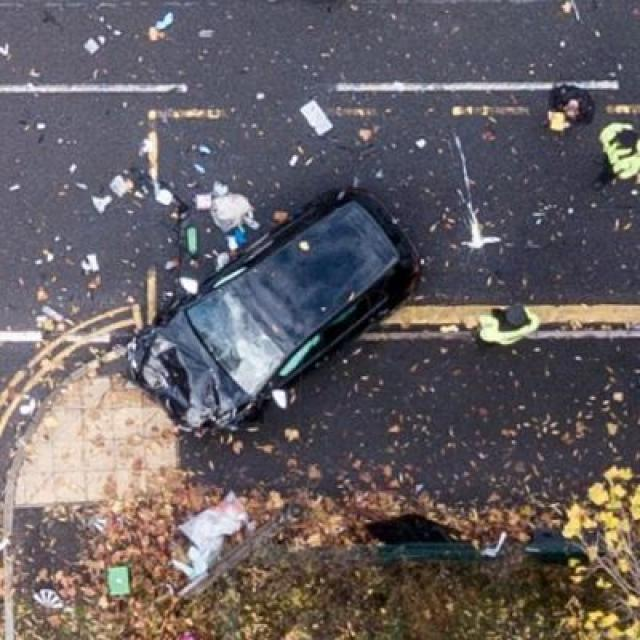traffic_incident: (131, 162, 416, 435)
